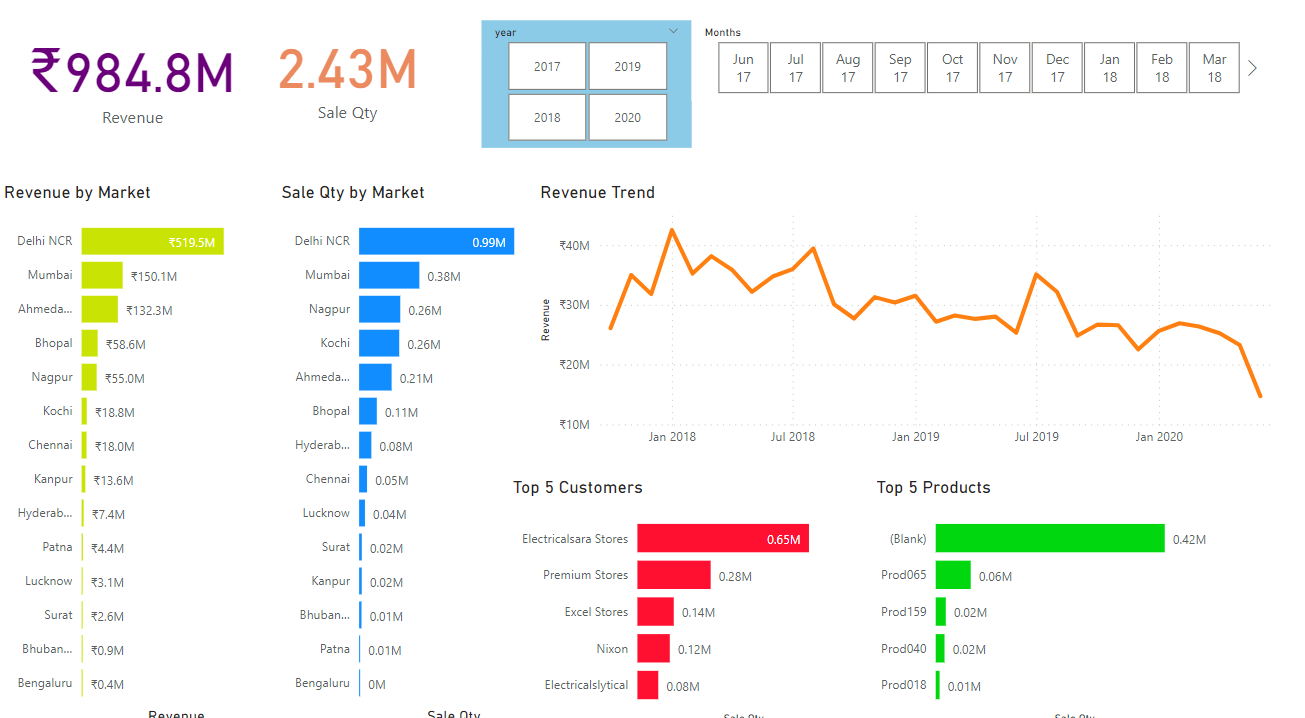

The dashboard page shown, as its layout file describes it:
{"tool":"powerbi","page":{"name":"Page 1","canvas":[1280,720],"ordinal":0},"visuals":[{"type":"card","fields":{"Values":["BaseMeasures.Revenue"]},"box":[11,12.2,250.6,150.4],"z":0},{"type":"card","fields":{"Values":["BaseMeasures.Sale Qty"]},"box":[235.9,12.2,235.9,150.4],"z":1000},{"type":"clusteredBarChart","title":"Revenue by Market","fields":{"Y":["BaseMeasures.Revenue"],"Category":["sales markets.markets_name"]},"box":[0,183.7,271.5,536.1],"z":2000},{"type":"clusteredBarChart","title":"Sale Qty by Market","fields":{"Y":["BaseMeasures.Sale Qty"],"Category":["sales markets.markets_name"]},"box":[271.5,183.7,271.5,536.1],"z":3000},{"type":"slicer","fields":{"Values":["sales date.year"]},"box":[471.9,25.7,205.4,124.7],"z":4000},{"type":"slicer","fields":{"Values":["sales date.cy_date"]},"box":[677.2,25.7,559.9,78.2],"z":5000},{"type":"clusteredBarChart","title":"Top 5 Customers","fields":{"Category":["sales customers.custmer_name"],"Y":["BaseMeasures.Sale Qty"]},"box":[497.7,471.6,340,248.2],"z":6000},{"type":"clusteredBarChart","title":"Top 5 Products","fields":{"Category":["sales products.product_code"],"Y":["BaseMeasures.Sale Qty"]},"box":[852.8,471.6,340,248.2],"z":7000},{"type":"lineChart","title":"Revenue Trend","fields":{"Y":["BaseMeasures.Revenue"],"Category":["sales date.cy_date.Variation.Date Hierarchy.Year","sales date.cy_date.Variation.Date Hierarchy.Quarter","sales date.cy_date.Variation.Date Hierarchy.Month","sales date.cy_date.Variation.Date Hierarchy.Day"]},"box":[524.4,183.4,738.3,267.7],"z":8000}]}

Visuals, with their boxes in screenshot pixels (x1, y1, x2, y2), scaled from the page's 1280x720 canvas onto the 1305x718 screenshot:
card - BaseMeasures.Revenue: [11, 12, 267, 162]
card - BaseMeasures.Sale Qty: [241, 12, 481, 162]
"Revenue by Market" clusteredBarChart: [0, 183, 277, 717]
"Sale Qty by Market" clusteredBarChart: [277, 183, 554, 717]
slicer - sales date.year: [481, 26, 691, 150]
slicer - sales date.cy_date: [690, 26, 1261, 104]
"Top 5 Customers" clusteredBarChart: [507, 470, 854, 717]
"Top 5 Products" clusteredBarChart: [869, 470, 1216, 717]
"Revenue Trend" lineChart: [535, 183, 1287, 450]
